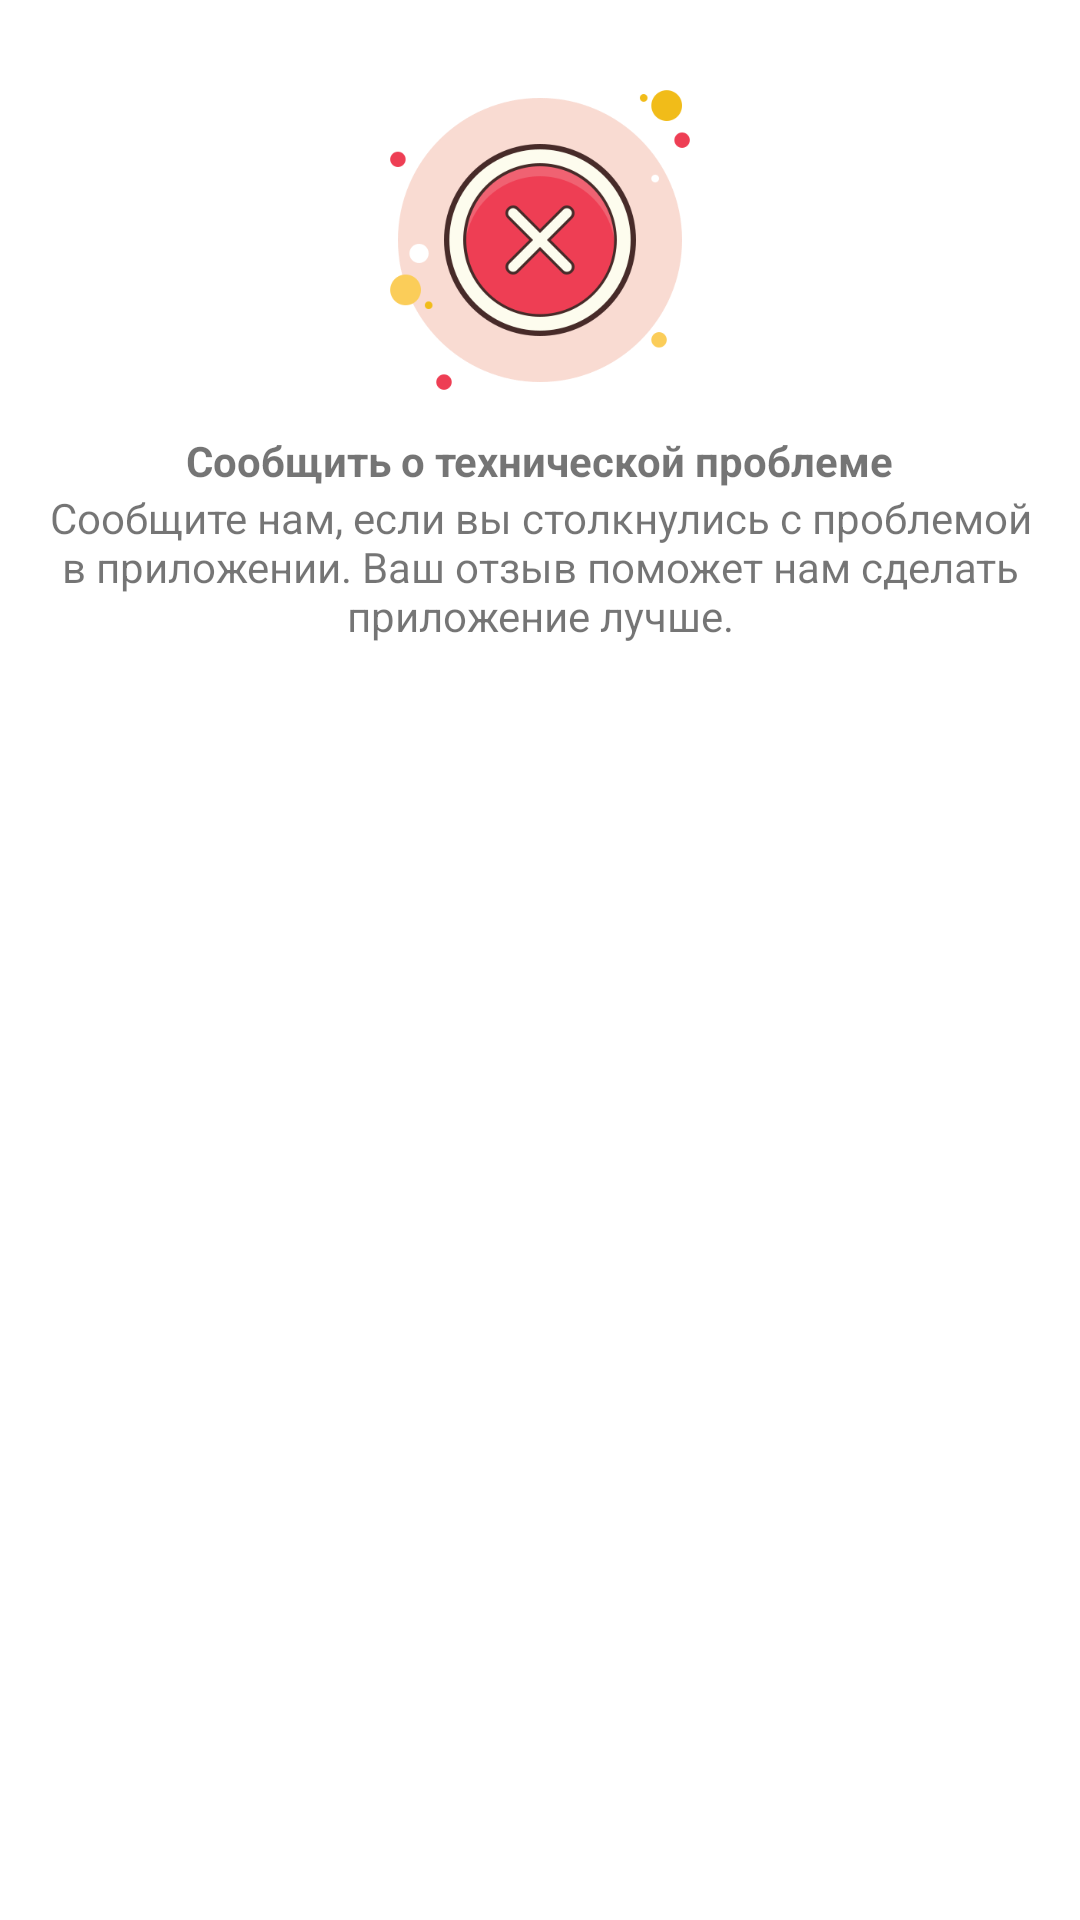

Screen size 1080 x 1920. Icon name, then its box in pixels as [x1=x1, y1=y1, x2=x2, y2=y2]:
error: [x1=390, y1=90, x2=690, y2=390]
